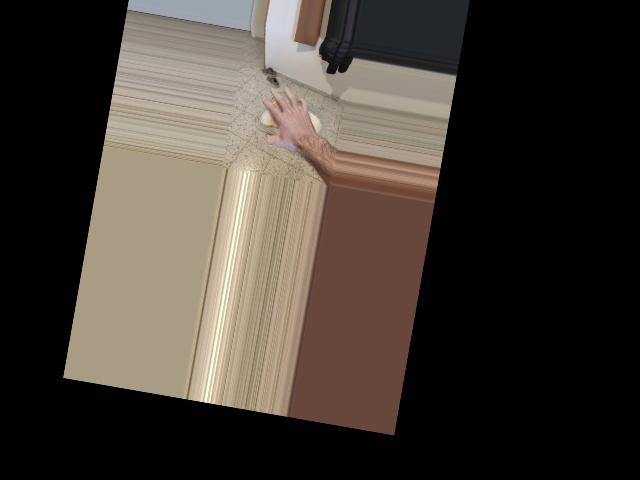cheese: (252, 84, 328, 159)
